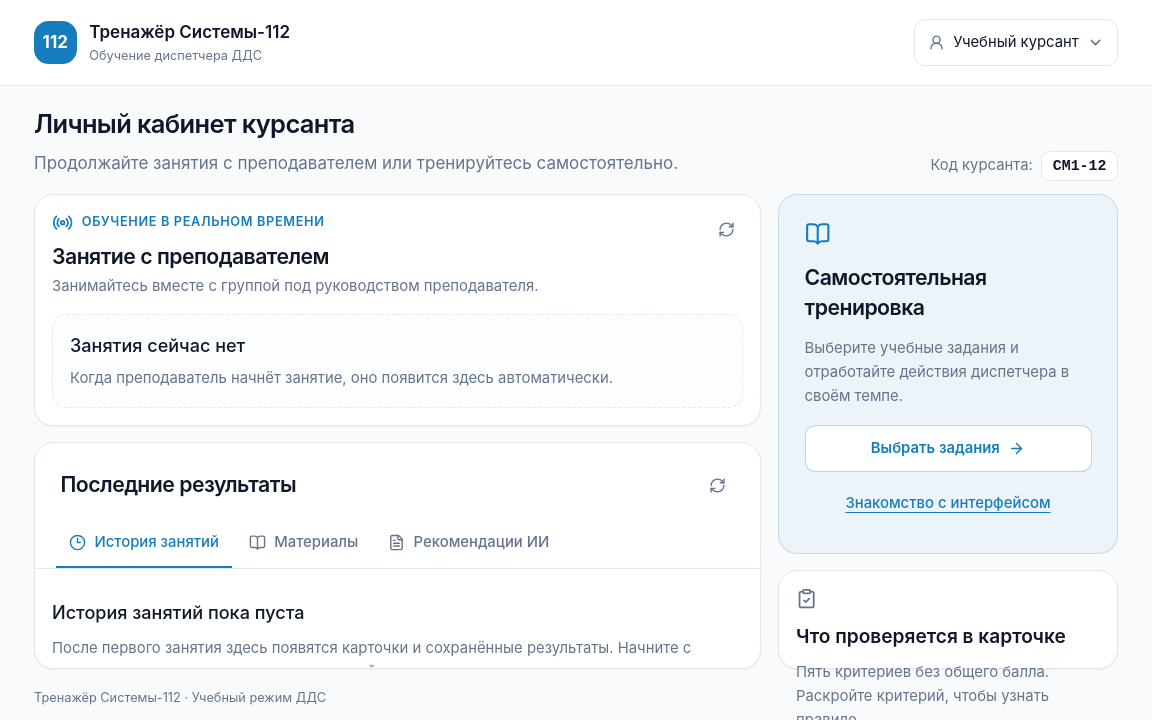
Test: does not require old unfinished training to be resumed before selecting new tasks
This screenshot has width=1152, height=720.
Expected: the text "Занятия сейчас нет" is shown, [70,335,245,356]
Click the button "Выбрать задания" at (948, 448), box [804,425,1092,472]
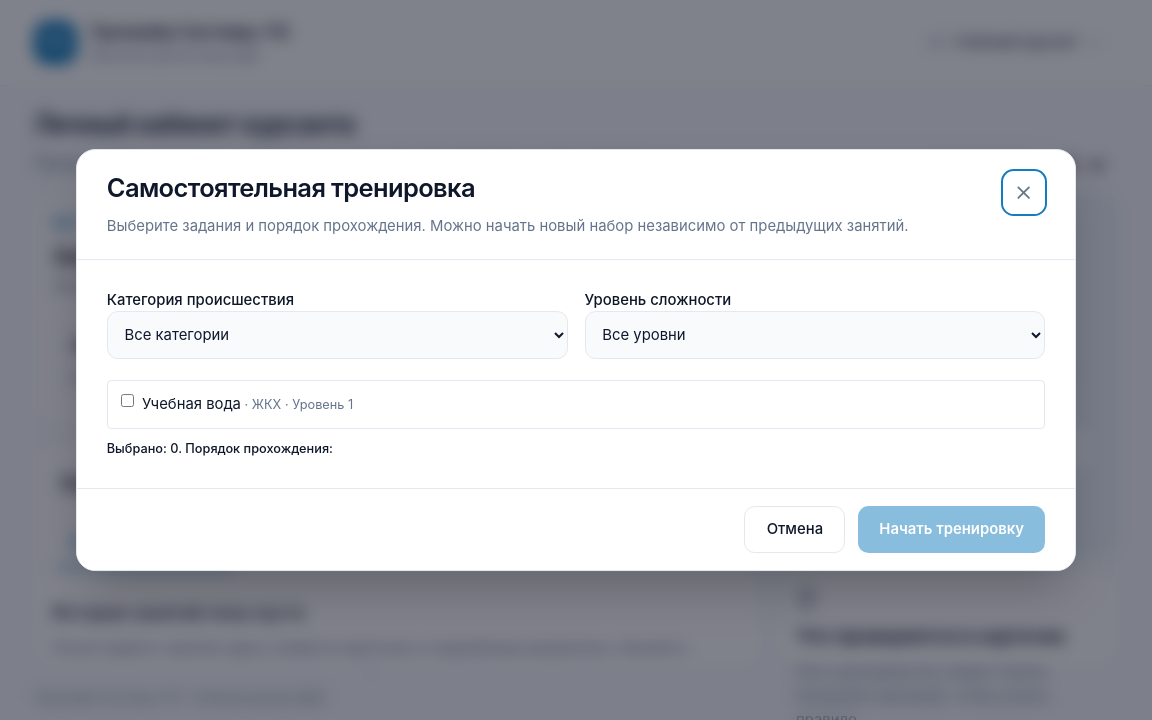
Result: the checkbox labelled "Учебная вода · ЖКХ · Уровень 1" is shown at [120,394,134,407]
